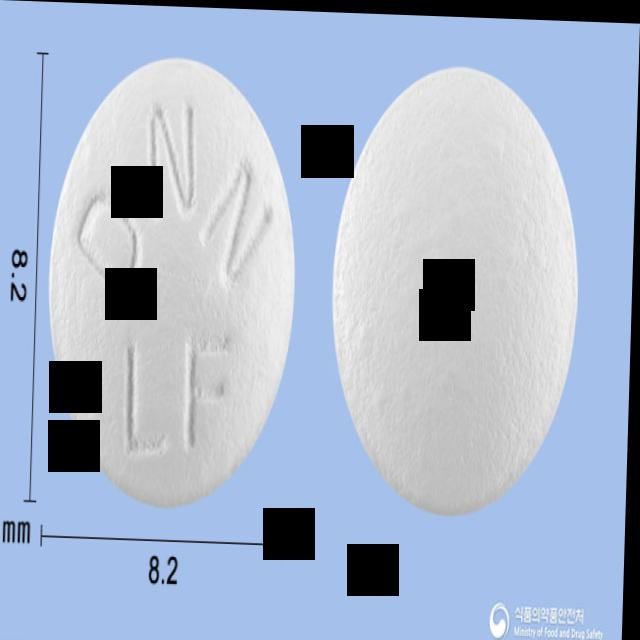Levoflcin: (45, 53, 304, 512), (329, 57, 586, 517)
